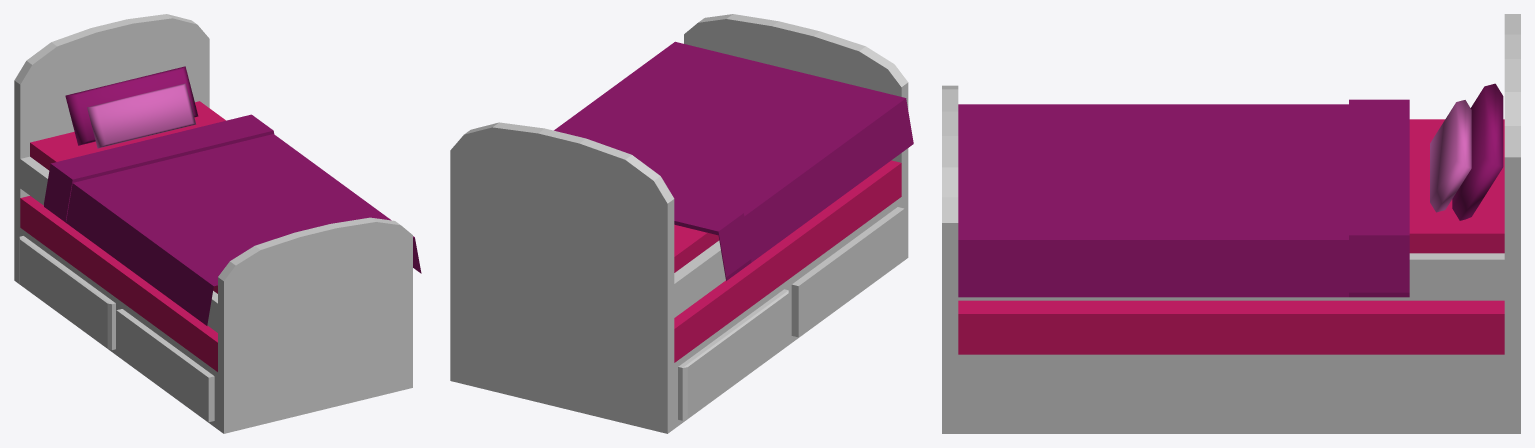
The model's file is LitSuperpose2.fbx.
3 renders of one model, left to right at view 1: azimuth 30°, elevation 25°; view 2: azimuth 150°, elevation 25°; view 3: azimuth 270°, elevation 25°, orthographic. The views are drawn at different scales.
Parts seen in each view (by area): view 1: Cube.001; view 2: Cube.001; view 3: Cube.001.
Boxes of the visible parts, x1=… form: Cube.001: x1=14, y1=14, x2=421, y2=433; Cube.001: x1=450, y1=14, x2=913, y2=433; Cube.001: x1=942, y1=14, x2=1520, y2=433.
Bounding box in the file's own units: 383 × 400 × 649.
